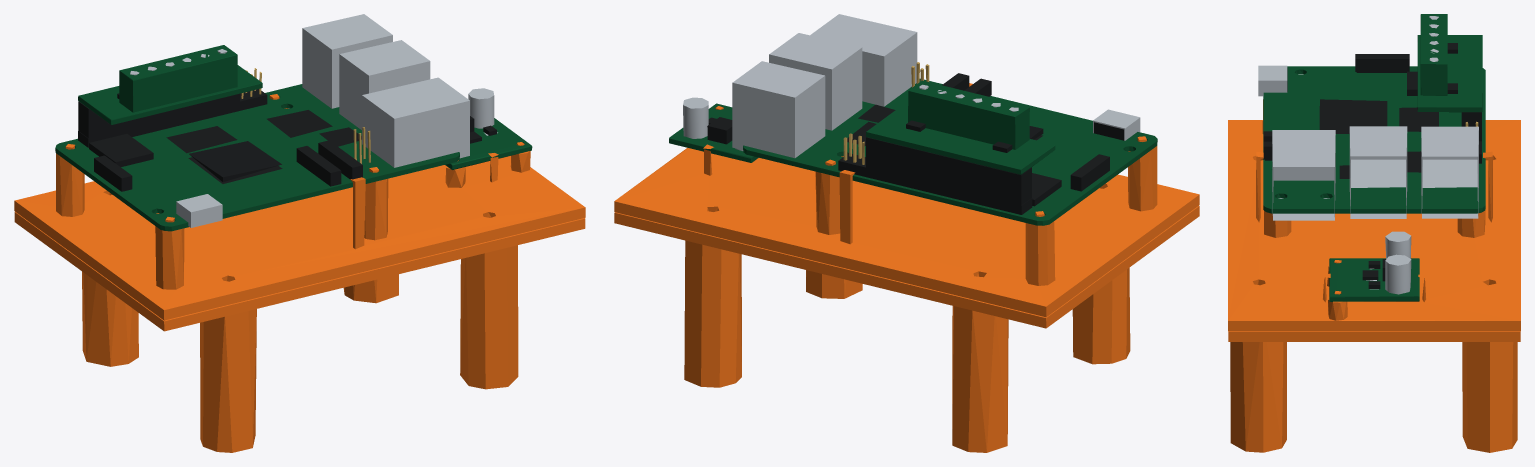
File: controller.glb
3 views of the same model, side by side, from view 1: azimuth 30°, elevation 25°; view 2: azimuth 150°, elevation 25°; view 3: azimuth 270°, elevation 25° (orthographic). The views are drawn at different scales.
Visible parts, largest first — view 1: print_controller_carrier, print_electronics_bridge, mesh_pcb_9, mesh_steel_11, mesh_rubber_and_chip_7; view 2: print_controller_carrier, print_electronics_bridge, mesh_pcb_9, mesh_steel_11, mesh_rubber_and_chip_7, mesh_brass_7; view 3: print_controller_carrier, mesh_pcb_9, print_electronics_bridge, mesh_steel_11, mesh_rubber_and_chip_7.
Boxes of the visible parts, x1,y1,x2,y2 form: print_controller_carrier: (14, 94, 585, 320); print_electronics_bridge: (14, 211, 585, 452); mesh_pcb_9: (55, 45, 532, 231); mesh_steel_11: (130, 14, 497, 227); mesh_rubber_and_chip_7: (78, 89, 496, 191); print_controller_carrier: (614, 83, 1199, 317); print_electronics_bridge: (614, 206, 1199, 452); mesh_pcb_9: (669, 78, 1157, 225); mesh_steel_11: (683, 14, 1140, 158); mesh_rubber_and_chip_7: (707, 73, 1123, 214); mesh_brass_7: (843, 62, 929, 164); print_controller_carrier: (1228, 99, 1520, 331); mesh_pcb_9: (1263, 14, 1485, 301); print_electronics_bridge: (1228, 331, 1520, 452); mesh_steel_11: (1258, 16, 1478, 294); mesh_rubber_and_chip_7: (1263, 43, 1481, 288).
Size of the model in its own units: 1.2 by 0.8245 by 0.7363.
